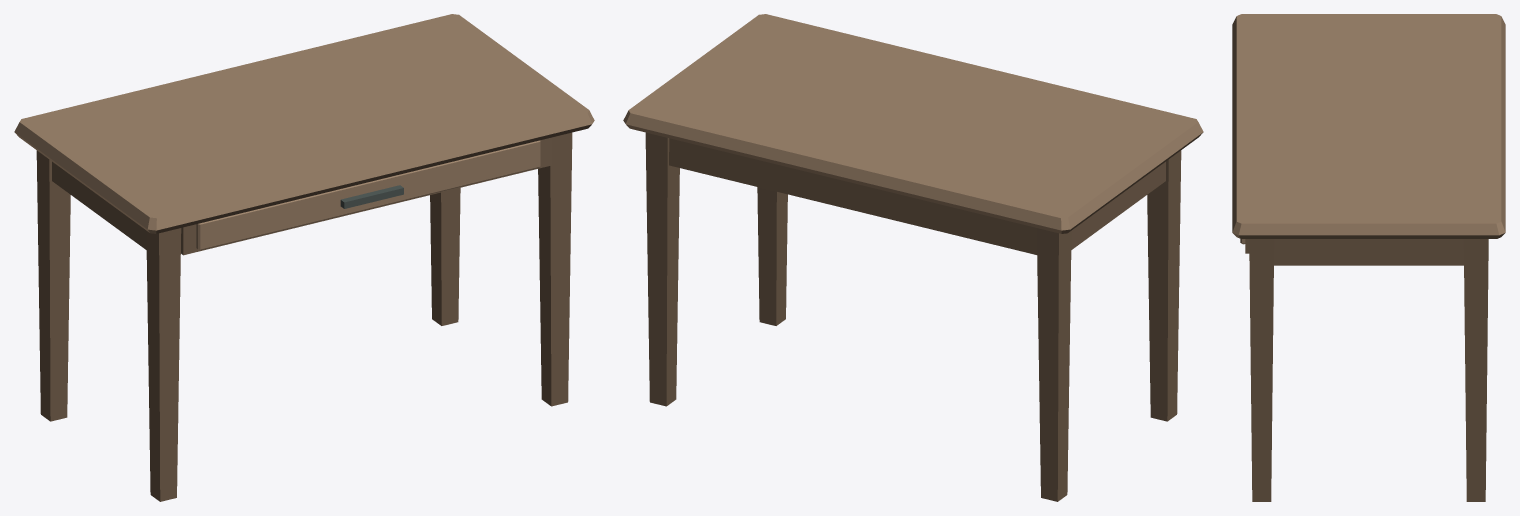
Rendered from Gazette_Work_Desk.fbx.
3 renders of one model, left to right at view 1: azimuth 30°, elevation 25°; view 2: azimuth 150°, elevation 25°; view 3: azimuth 270°, elevation 25°, orthographic. The views are drawn at different scales.
Visible parts, largest first — view 1: Gazette_Work_Desk; view 2: Gazette_Work_Desk; view 3: Gazette_Work_Desk.
Boxes of the visible parts, <box> form: Gazette_Work_Desk: <box>14,14,594,501</box>; Gazette_Work_Desk: <box>623,14,1203,501</box>; Gazette_Work_Desk: <box>1232,14,1505,501</box>.
Bounding box in the file's own units: 1.2 × 0.75 × 0.65.
